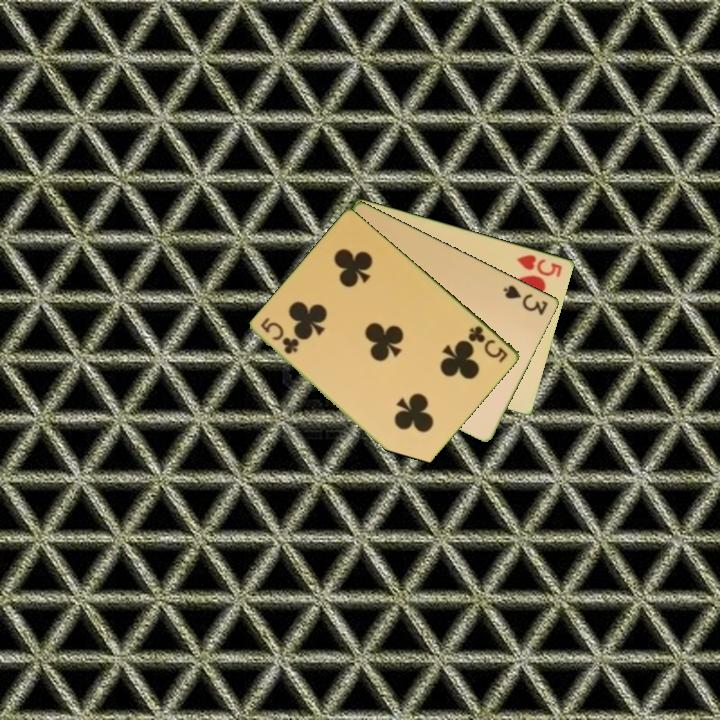3s: (500, 281, 551, 318)
5c: (465, 322, 511, 365), (257, 314, 301, 357)
5h: (513, 251, 565, 280)
